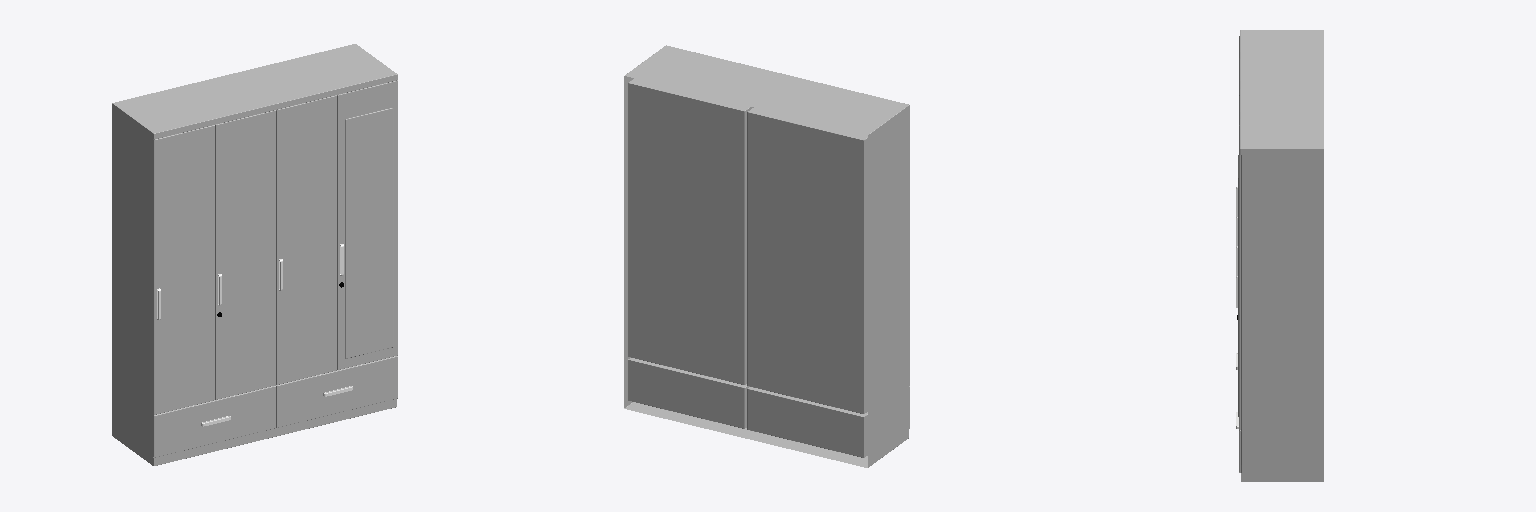
The model's file is door.obj.
The picture shows the model from 3 angles: view 1: azimuth 30°, elevation 25°; view 2: azimuth 150°, elevation 25°; view 3: azimuth 270°, elevation 25°; orthographic projection.
Parts seen in each view (by area): view 1: white_finishing_Plane.001, back_wardrobe_Plane, mirror_Plane.002, door_opener_Plane.003; view 2: back_wardrobe_Plane; view 3: back_wardrobe_Plane, white_finishing_Plane.001.
Boxes of the visible parts, <box> form: white_finishing_Plane.001: <box>153,80,397,457</box>; back_wardrobe_Plane: <box>112,44,397,465</box>; mirror_Plane.002: <box>345,108,393,358</box>; door_opener_Plane.003: <box>157,244,352,426</box>; back_wardrobe_Plane: <box>624,45,909,467</box>; back_wardrobe_Plane: <box>1240,30,1323,481</box>; white_finishing_Plane.001: <box>1239,36,1240,472</box>.
Size of the model in its own units: 2 by 2.61 by 0.6252.